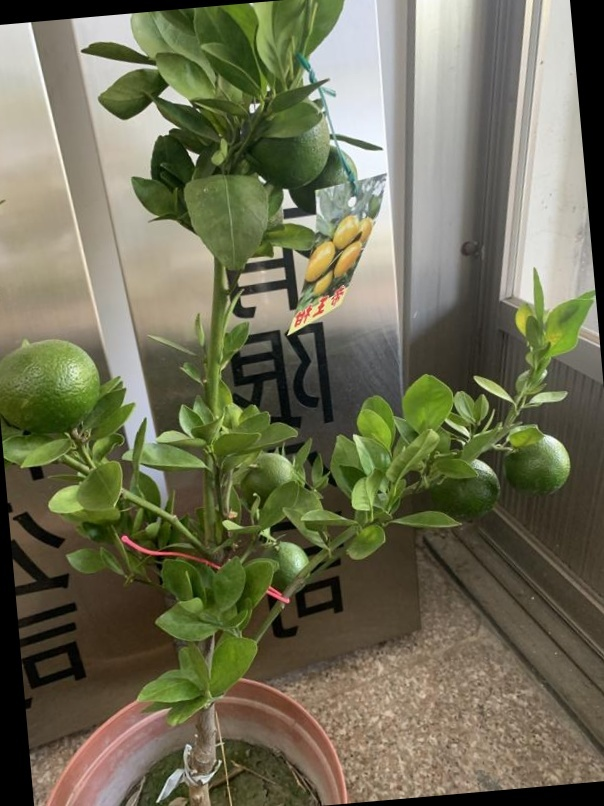Tangerine: (2, 333, 102, 438), (509, 435, 573, 499), (436, 461, 503, 521)
